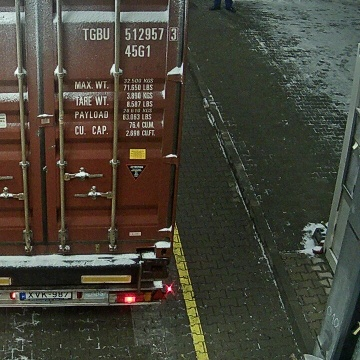serial_id: (83, 27, 177, 40)
